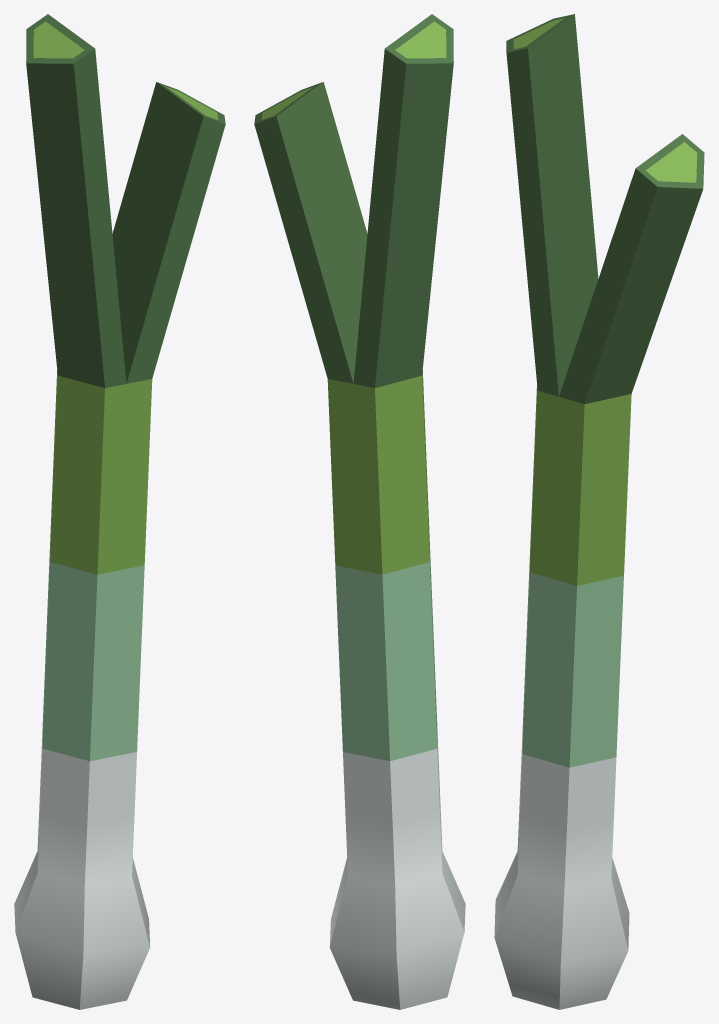
Rendered from P_poireaux.fbx.
The picture shows the model from 3 angles, left to right: view 1: azimuth 30°, elevation 25°; view 2: azimuth 150°, elevation 25°; view 3: azimuth 330°, elevation 25°; orthographic projection.
Visible parts, largest first — view 1: Cylinder003; view 2: Cylinder003; view 3: Cylinder003.
Part boxes in pixels (left/top/right/bottom): Cylinder003: left=14, top=14, right=225, bottom=1009; Cylinder003: left=254, top=14, right=465, bottom=1009; Cylinder003: left=494, top=14, right=704, bottom=1009.
Size of the model in its own units: 8.74 by 38.39 by 5.01.
